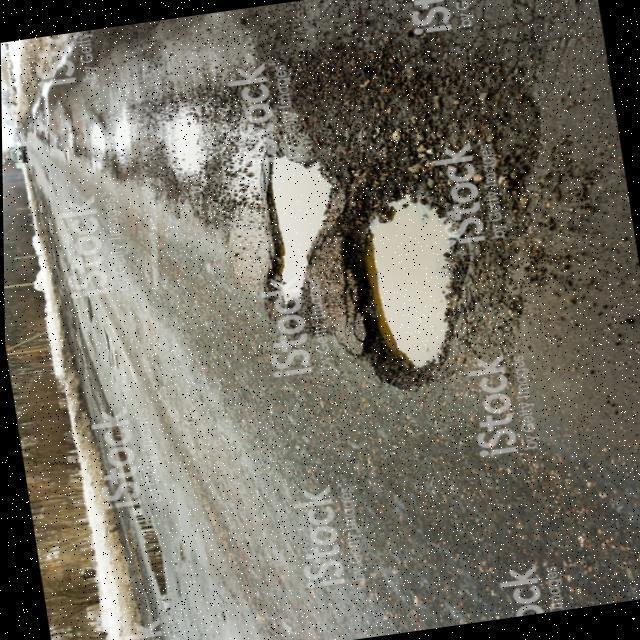Pothole: (347, 143, 492, 392), (252, 139, 339, 322)
